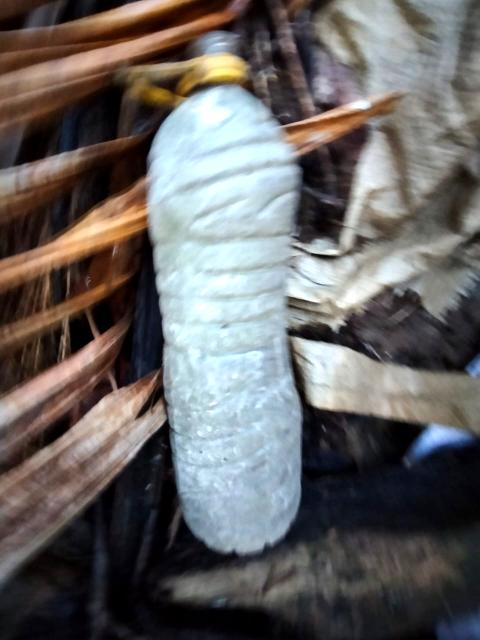bottle: (142, 66, 321, 554)
